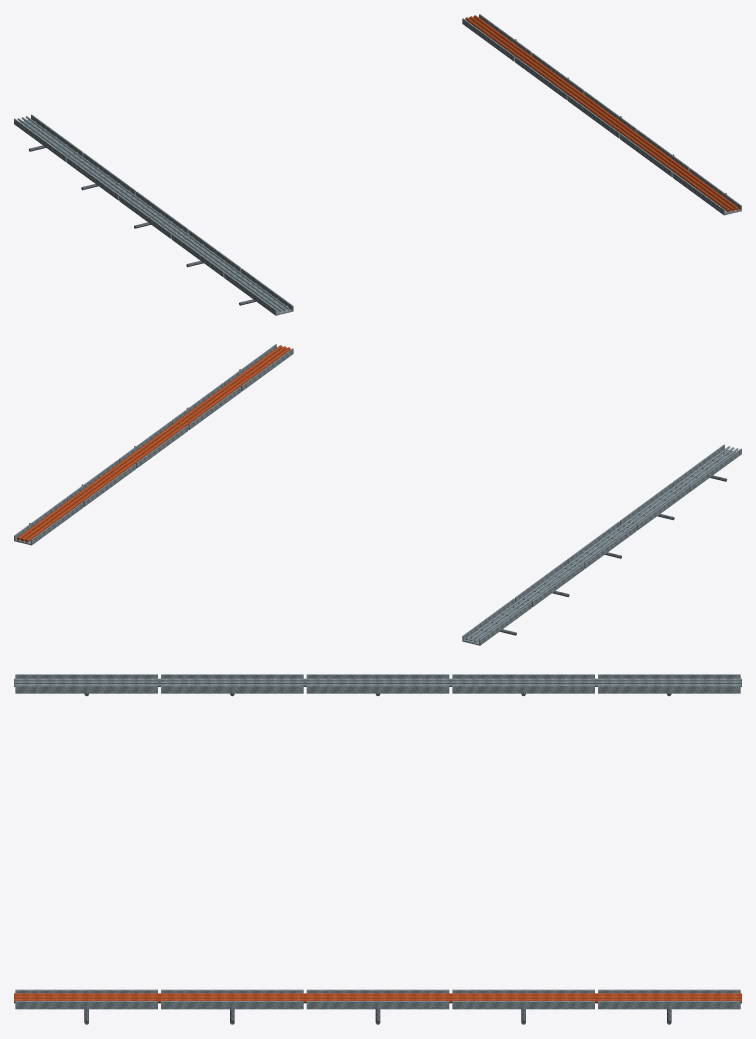
File: PZ_Metro_10m_Independent_Cable_Trays.glb
3 views of the same model, one above another, from view 1: azimuth 30°, elevation 25°; view 2: azimuth 150°, elevation 25°; view 3: azimuth 270°, elevation 25° (orthographic). The views are drawn at different scales.
Visible parts, largest first — view 1: no part large enough to name; view 2: no part large enough to name; view 3: POWER_CABLE_TRAY_Lip_B_03, COMMS_CABLE_TRAY_Lip_B_03, POWER_CABLE_TRAY_Lip_B_01, POWER_CABLE_TRAY_Lip_B_02, POWER_CABLE_TRAY_Lip_B_04, POWER_CABLE_TRAY_Lip_B_05, COMMS_CABLE_TRAY_Lip_B_01, COMMS_CABLE_TRAY_Lip_B_02, COMMS_CABLE_TRAY_Lip_B_04, COMMS_CABLE_TRAY_Lip_B_05, COMMS_CABLE_TRAY_Lip_A_03, POWER_CABLE_TRAY_Lip_A_03 (+13 smaller).
Part boxes in pixels (left/top/right/bottom): POWER_CABLE_TRAY_Lip_B_03: left=306, top=1001, right=449, bottom=1008; COMMS_CABLE_TRAY_Lip_B_03: left=306, top=685, right=449, bottom=692; POWER_CABLE_TRAY_Lip_B_01: left=15, top=1001, right=157, bottom=1008; POWER_CABLE_TRAY_Lip_B_02: left=161, top=1001, right=303, bottom=1008; POWER_CABLE_TRAY_Lip_B_04: left=452, top=1001, right=594, bottom=1008; POWER_CABLE_TRAY_Lip_B_05: left=598, top=1001, right=740, bottom=1008; COMMS_CABLE_TRAY_Lip_B_01: left=15, top=685, right=157, bottom=692; COMMS_CABLE_TRAY_Lip_B_02: left=161, top=685, right=303, bottom=692; COMMS_CABLE_TRAY_Lip_B_04: left=452, top=685, right=594, bottom=692; COMMS_CABLE_TRAY_Lip_B_05: left=598, top=685, right=740, bottom=692; COMMS_CABLE_TRAY_Lip_A_03: left=306, top=674, right=449, bottom=678; POWER_CABLE_TRAY_Lip_A_03: left=306, top=989, right=449, bottom=993.
Bounding box in the file's own units: 10.69 × 0.4335 × 10.
Materials: 3 (3 with a texture image).
